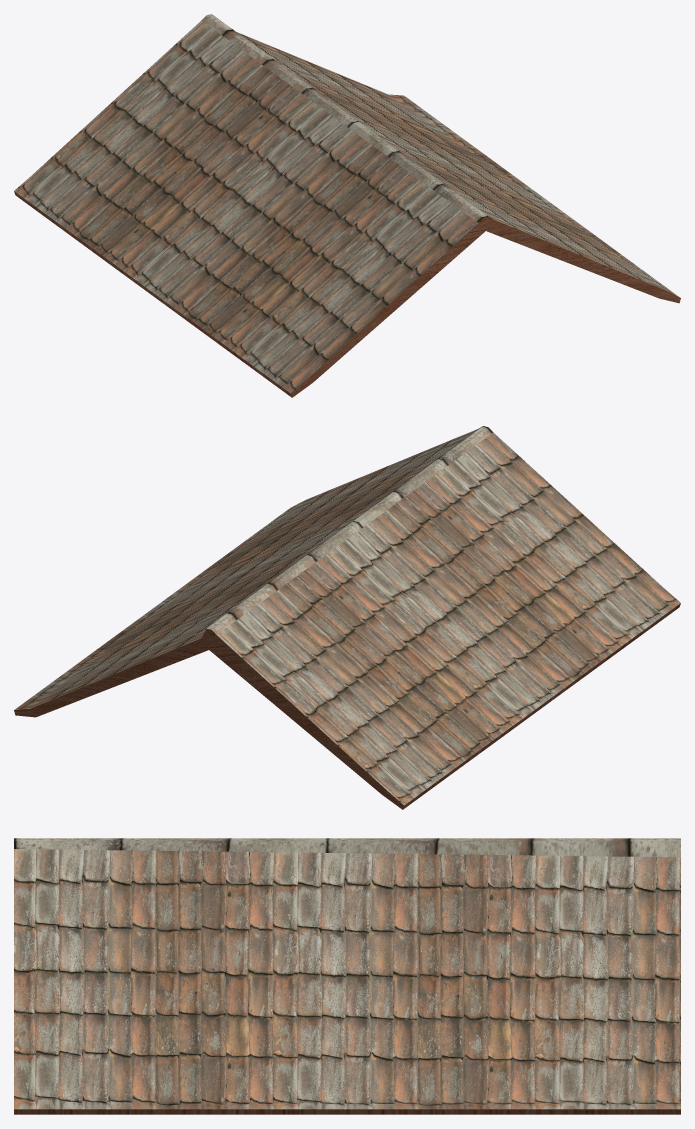
File: R5_Genteng.fbx
The picture shows the model from 3 angles, top to bottom: view 1: azimuth 30°, elevation 25°; view 2: azimuth 150°, elevation 25°; view 3: azimuth 270°, elevation 25°; orthographic projection. The views are drawn at different scales.
Parts seen in each view (by area): view 1: Genteng_R5; view 2: Genteng_R5; view 3: Genteng_R5.
Part boxes in pixels (box(x1,y1,x2,y2)): Genteng_R5: box(14, 14, 680, 397); Genteng_R5: box(14, 426, 680, 809); Genteng_R5: box(14, 838, 680, 1114).
Bounding box in the file's own units: 17.83 × 5.83 × 21.91.
Materials: 2 (2 with a texture image).
